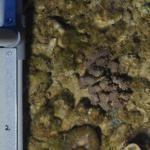dead: (35, 22, 147, 146)
